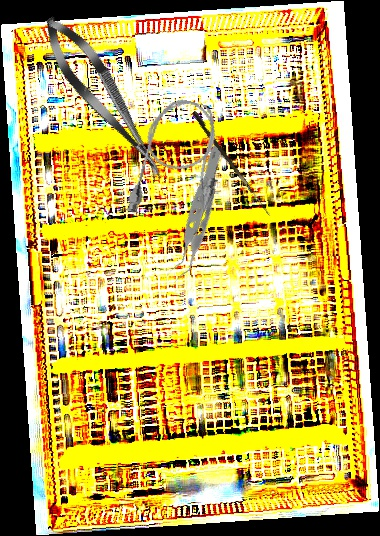Cannula: (124, 92, 235, 238)
Hook Surgical: (190, 110, 275, 217)
Micro Scissor: (32, 7, 177, 191)
Tissue Forceps: (123, 141, 268, 285)
